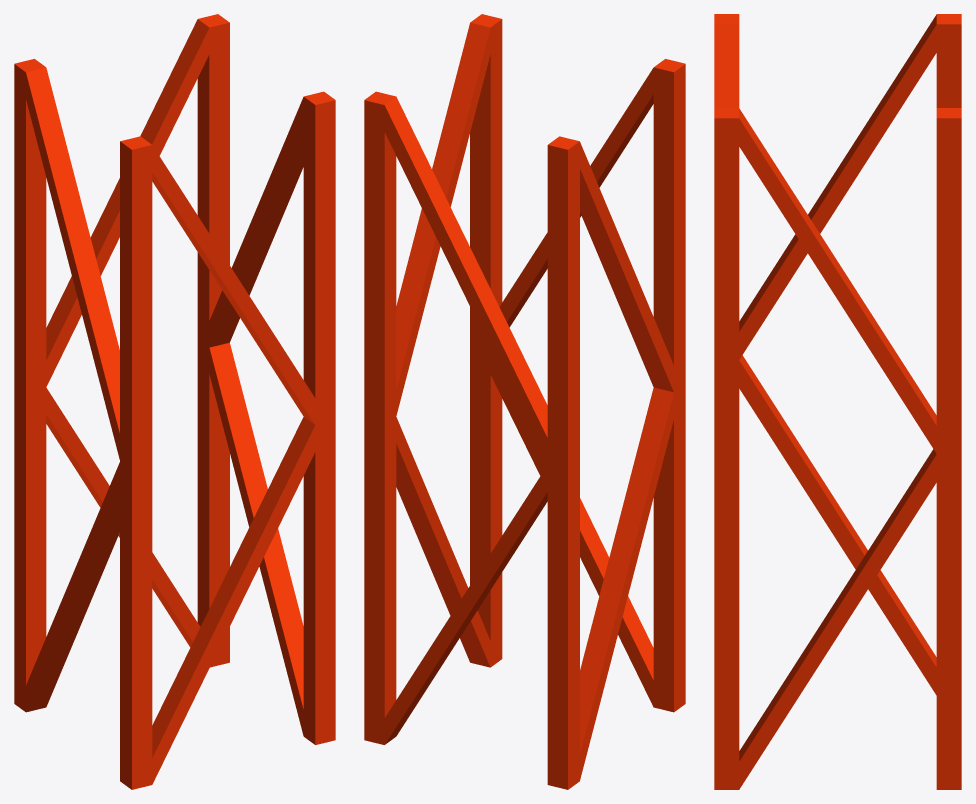
File: Rift_Pipe.fbx
3 views of the same model, side by side, from view 1: azimuth 30°, elevation 25°; view 2: azimuth 150°, elevation 25°; view 3: azimuth 270°, elevation 25° (orthographic). The views are drawn at different scales.
Parts seen in each view (by area): view 1: Cube.001; view 2: Cube.001; view 3: Cube.001.
Boxes of the visible parts, bbox=[...] form: Cube.001: bbox=[14, 14, 335, 789]; Cube.001: bbox=[364, 14, 685, 789]; Cube.001: bbox=[714, 14, 961, 789].
Bounding box in the file's own units: 100 × 300 × 100.
